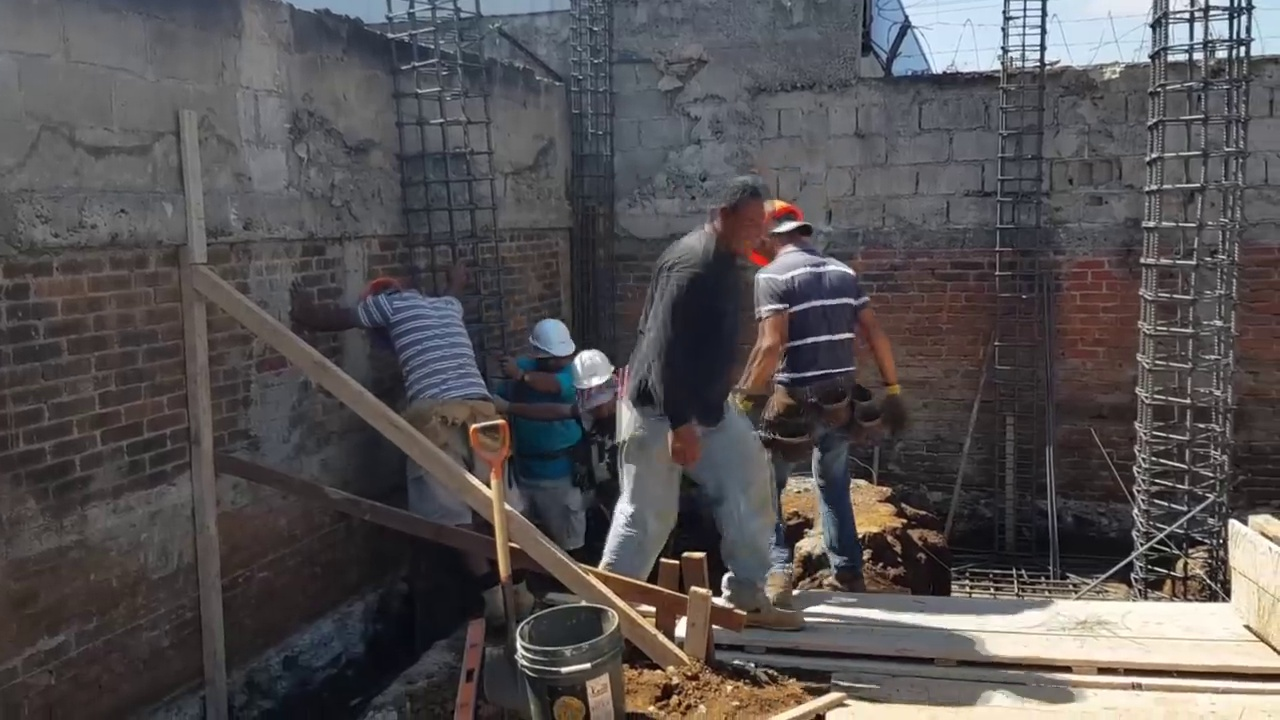helmet: (527, 318, 577, 358), (571, 346, 614, 392), (761, 199, 812, 234), (358, 276, 400, 303)
helmet-off: (704, 179, 778, 256)
helmet-on: (569, 347, 625, 425), (761, 198, 812, 257), (528, 318, 576, 379), (357, 276, 406, 306)
person: (602, 172, 806, 626), (288, 270, 494, 632), (756, 198, 894, 595), (495, 347, 630, 572), (496, 317, 581, 560), (778, 484, 825, 585)
